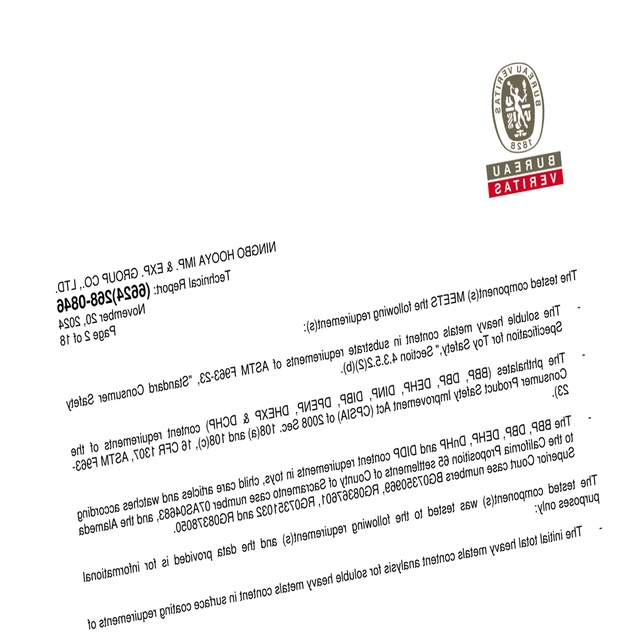bureau_veritas: (484, 59, 566, 200)
